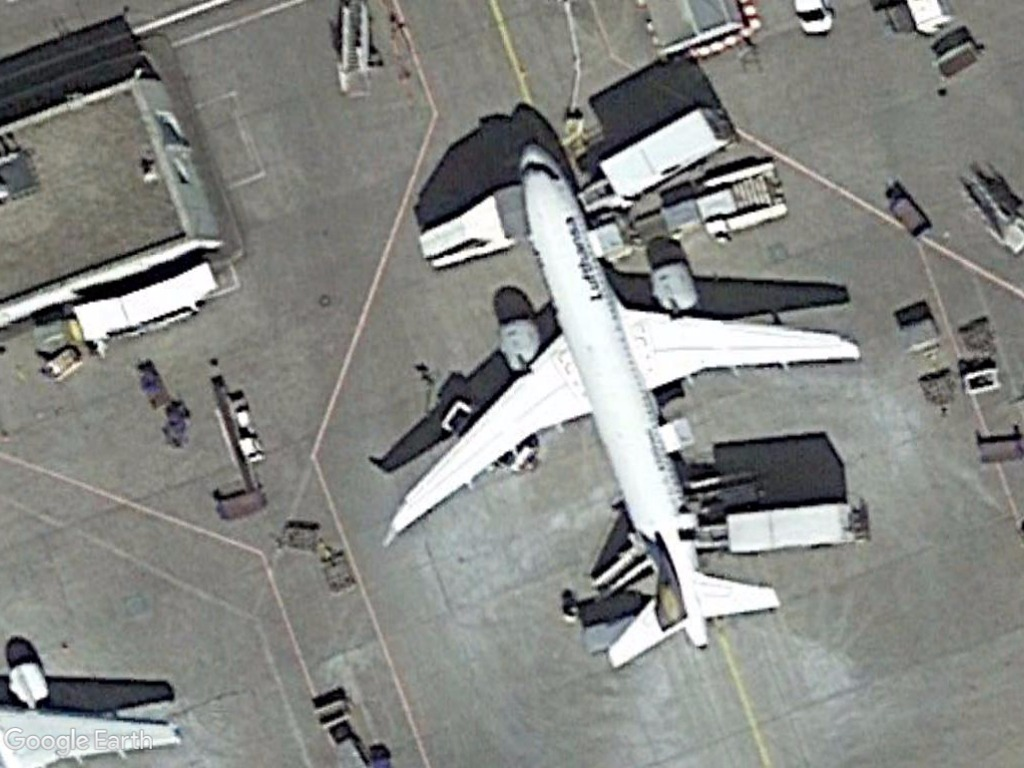airliner: (369, 128, 863, 677)
